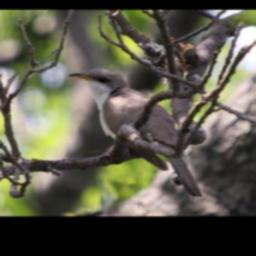Cuckoo: (66, 64, 202, 201)
